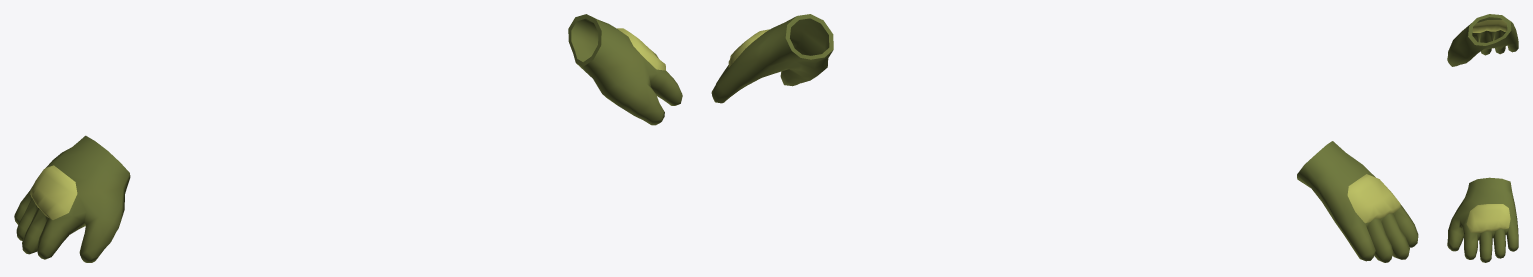
File: Gloves_10.glb
The picture shows the model from 3 angles, left to right: view 1: azimuth 30°, elevation 25°; view 2: azimuth 150°, elevation 25°; view 3: azimuth 270°, elevation 25°; orthographic projection. The views are drawn at different scales.
Parts seen in each view (by area): view 1: Gloves_10; view 2: Gloves_10; view 3: Gloves_10.
Boxes of the visible parts, x1,y1,x2,y2 form: Gloves_10: [14, 14, 682, 262]; Gloves_10: [711, 14, 1418, 262]; Gloves_10: [1447, 14, 1518, 262].
Size of the model in its own units: 0.8285 by 0.1148 by 0.1181.
Materials: 1 (1 with a texture image).
